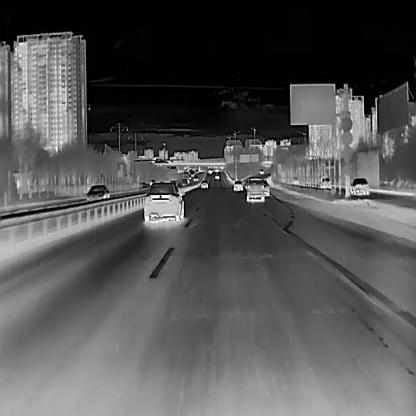car: (143, 182, 183, 221), (245, 177, 264, 202), (85, 185, 109, 201), (349, 177, 369, 195), (320, 176, 331, 188), (262, 180, 269, 196), (233, 180, 243, 190), (200, 180, 208, 188), (181, 178, 189, 184), (215, 172, 220, 179), (193, 174, 198, 180), (260, 168, 264, 173)
